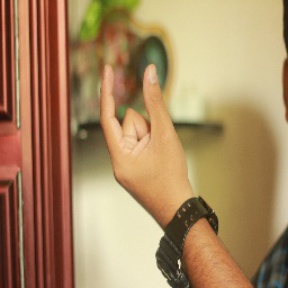U: (93, 54, 185, 188)
